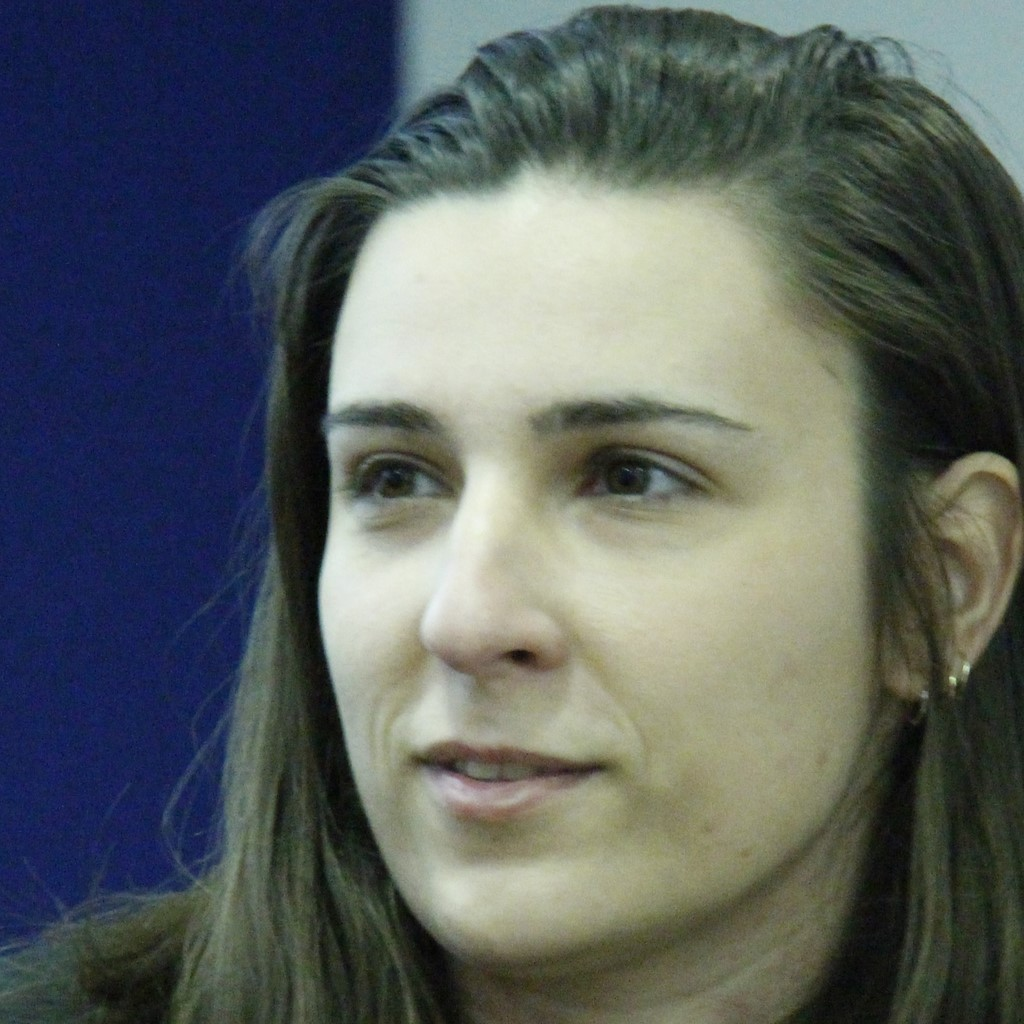sin_mascara: (309, 167, 918, 956)
